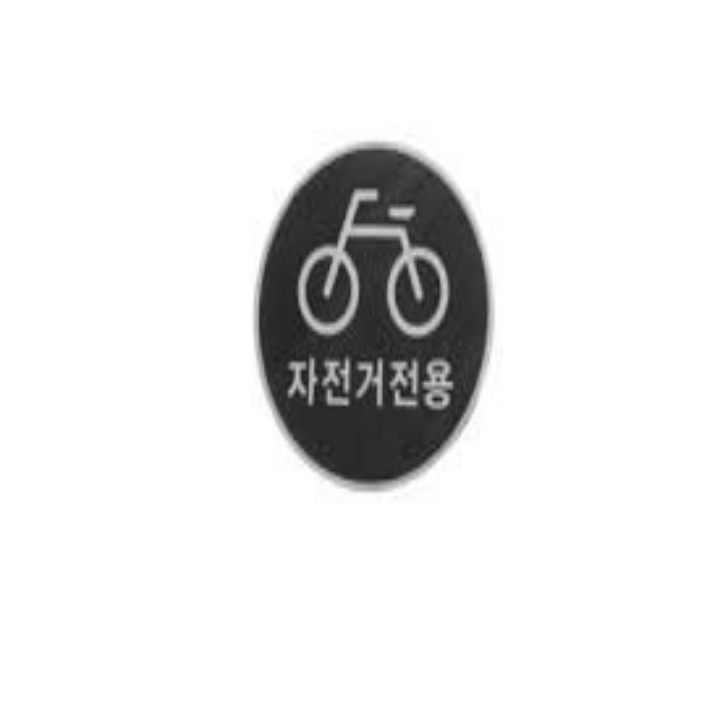bicycle: (281, 165, 469, 353)
